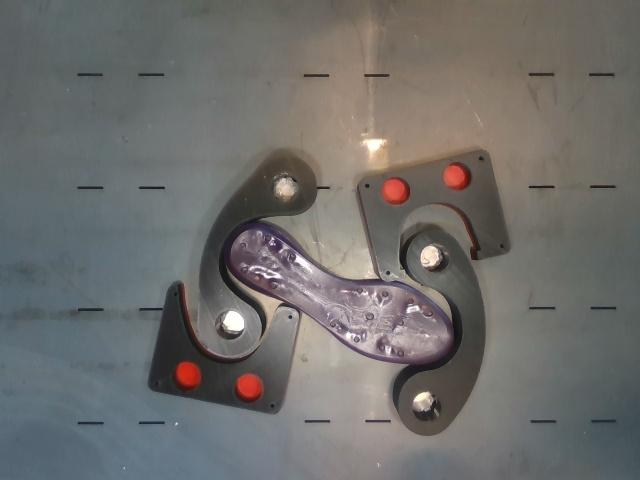shoes: (226, 223, 453, 364)
